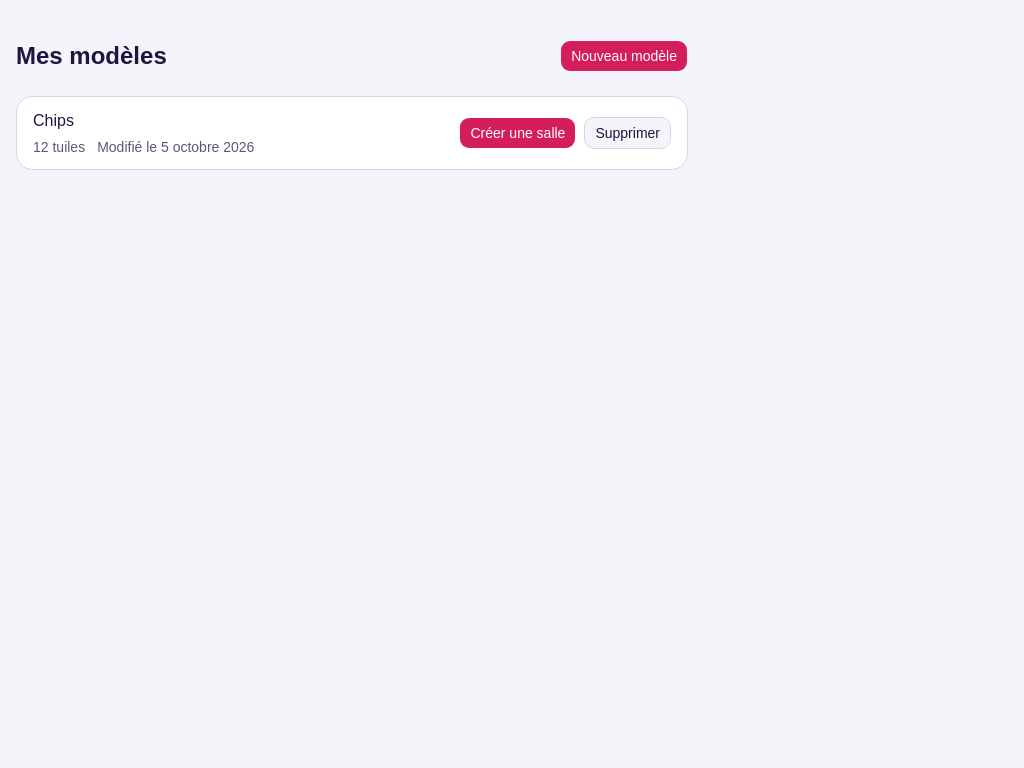
Test case: TemplatesPage › keeps the template when the deletion is cancelled
Click the button with aria-label "Supprimer Chips": (628, 133) x1=584 y1=117 x2=671 y2=149
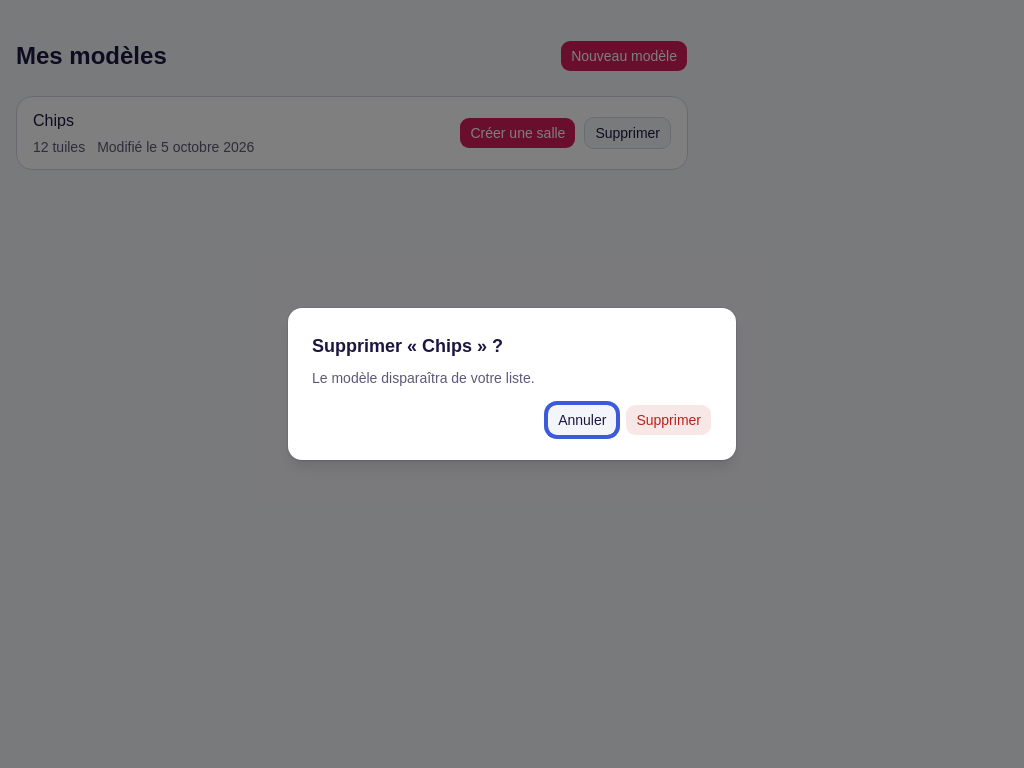
Click the button "Annuler": (582, 420) x1=547 y1=404 x2=617 y2=436
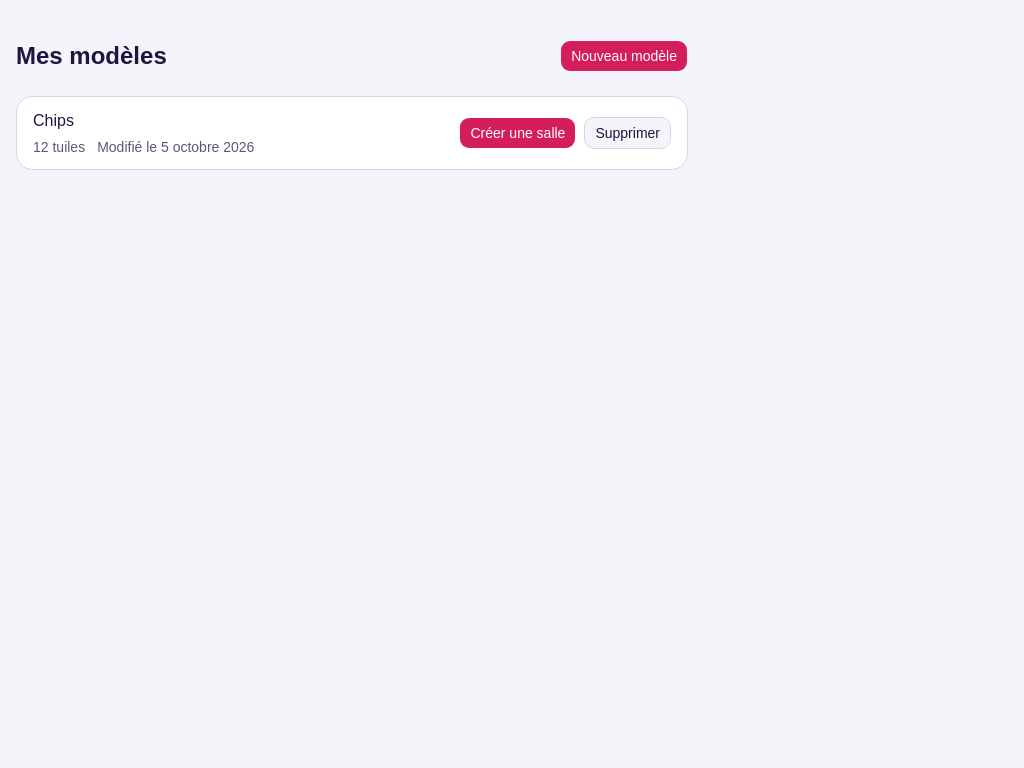
Expected: the link "Chips" is shown, x1=33 y1=112 x2=74 y2=129
Expected: the heading "Supprimer « Chips » ?" is gone
